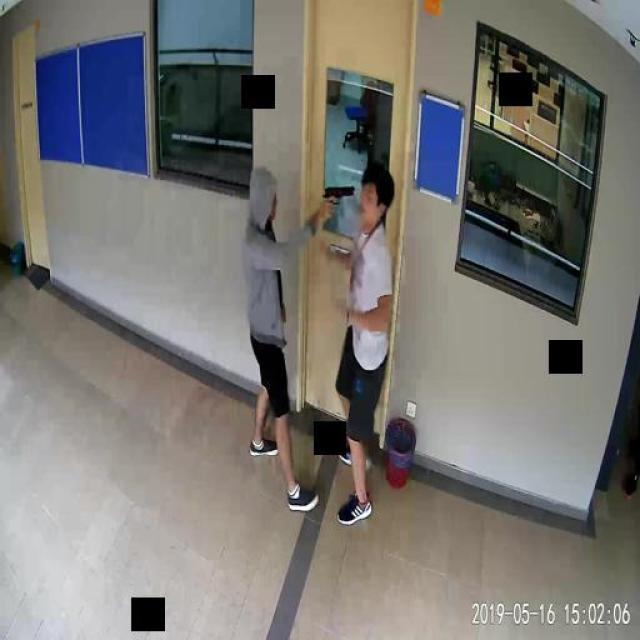gun: (322, 182, 352, 218)
